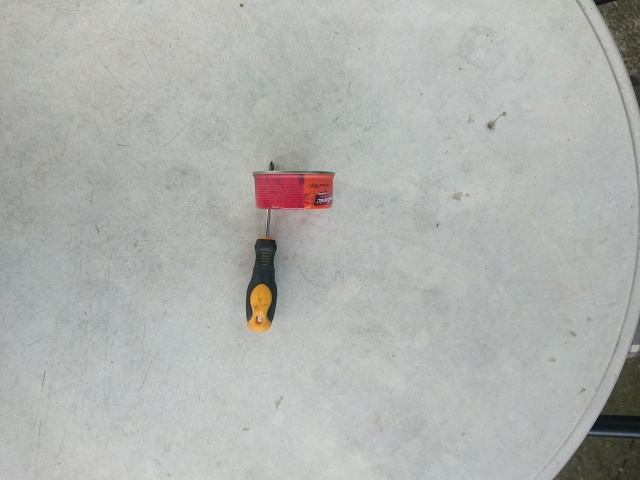Gavrilovic Pork Liver Pate 100g: (251, 168, 336, 211)
